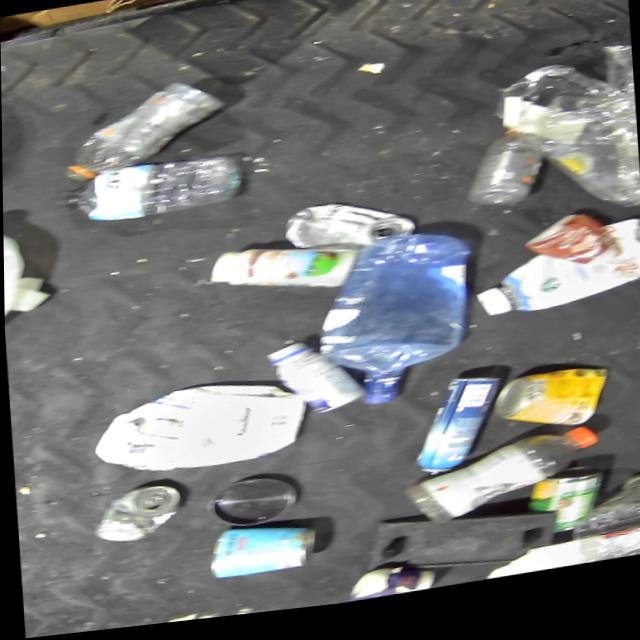can: (408, 380, 503, 487), (280, 196, 418, 267), (490, 373, 610, 451), (204, 521, 316, 587), (523, 475, 610, 549), (87, 483, 183, 550)
milk_jug: (88, 374, 308, 487), (2, 209, 28, 338)
plastic_bottle: (397, 436, 603, 538), (56, 75, 230, 187), (52, 152, 245, 234), (560, 486, 640, 580)
